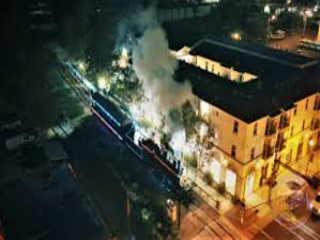smoke: (121, 30, 221, 175)
